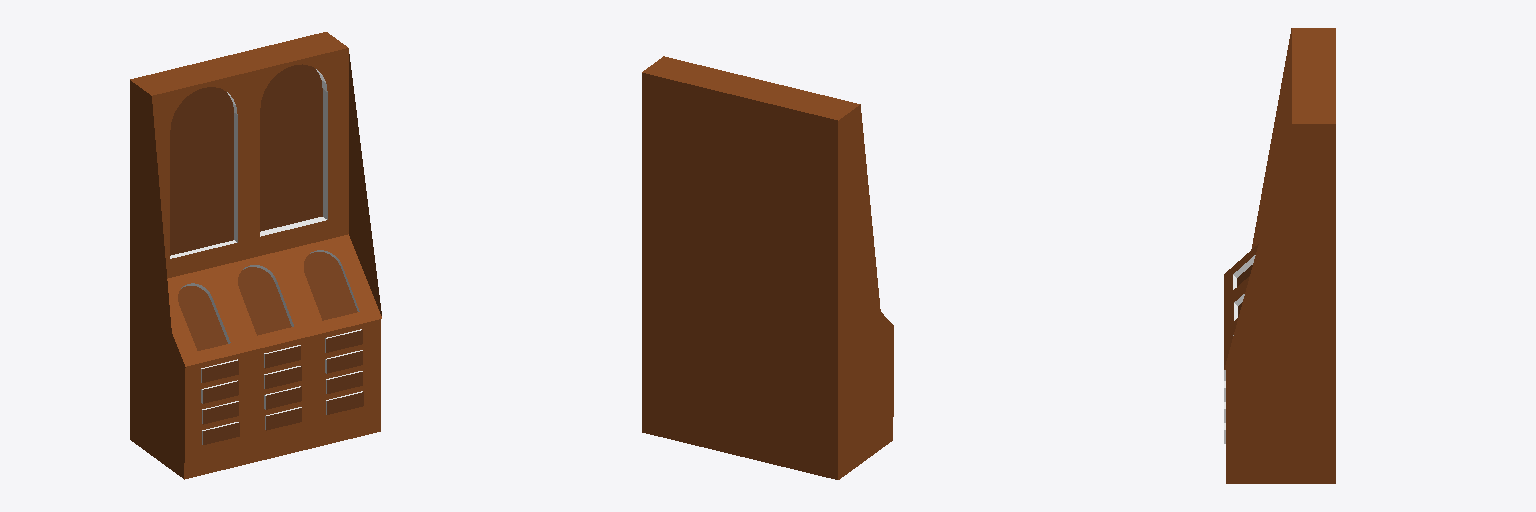
File: secretary_model_2023.obj
3 views of the same model, side by side, from view 1: azimuth 30°, elevation 25°; view 2: azimuth 150°, elevation 25°; view 3: azimuth 270°, elevation 25° (orthographic).
Visible parts, largest first — view 1: Mesh1 Model; view 2: Mesh1 Model; view 3: Mesh1 Model.
Part boxes in pixels (x1,y1,x2,y2): Mesh1 Model: (130, 32, 381, 479); Mesh1 Model: (642, 56, 893, 479); Mesh1 Model: (1224, 28, 1335, 483).
Bounding box in the file's own units: 71.62 × 125 × 35.25.